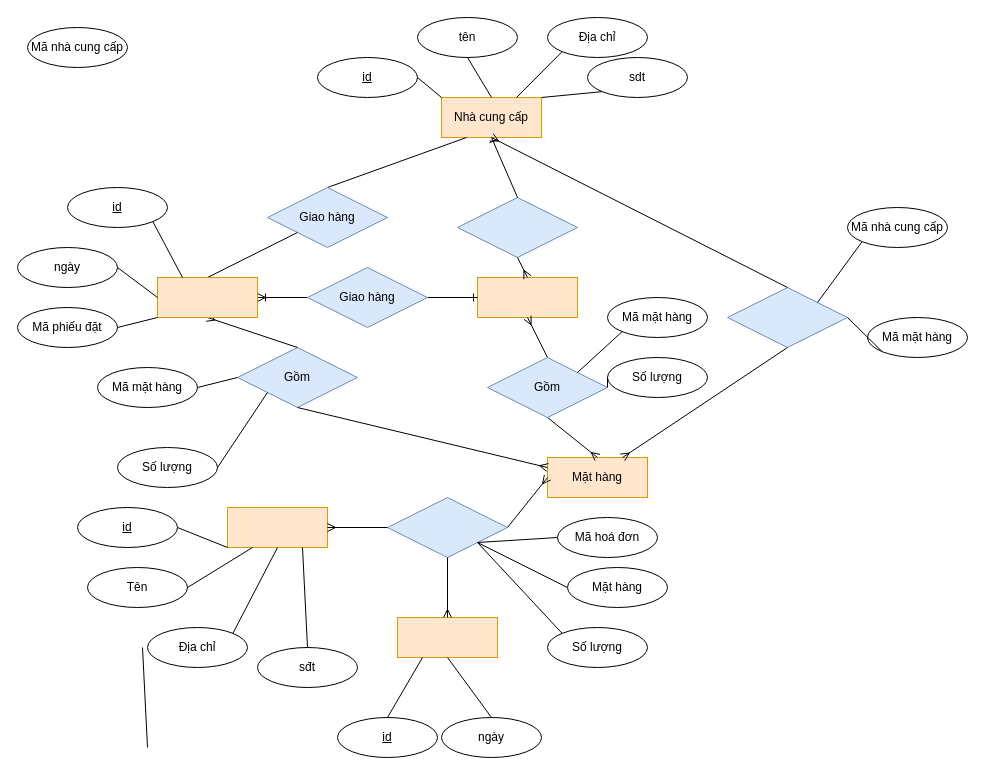
The diagram is 985 pixels wide and 775 high, and some of its shapes have lost their labels. The box of each missing label's shape, as (x1, y1, x2, y2) in pixels:
Hoá đơn: (396, 616, 498, 658)
Khách Hàng: (226, 506, 328, 548)
Mua hàng: (386, 496, 508, 558)
Phiếu giao hàng: (156, 276, 258, 318)
Phiếu đặt Hàng: (476, 276, 578, 318)
Sở hữu: (726, 286, 848, 348)
Đặt hàng: (456, 196, 578, 258)
